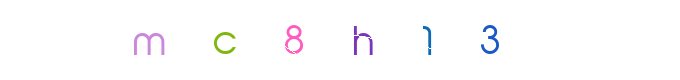1: (320, 0, 400, 80)
3: (429, 0, 509, 80)
8: (254, 0, 334, 80)
C: (183, 0, 263, 80)
H: (300, 0, 380, 80)
M: (173, 0, 253, 80)
